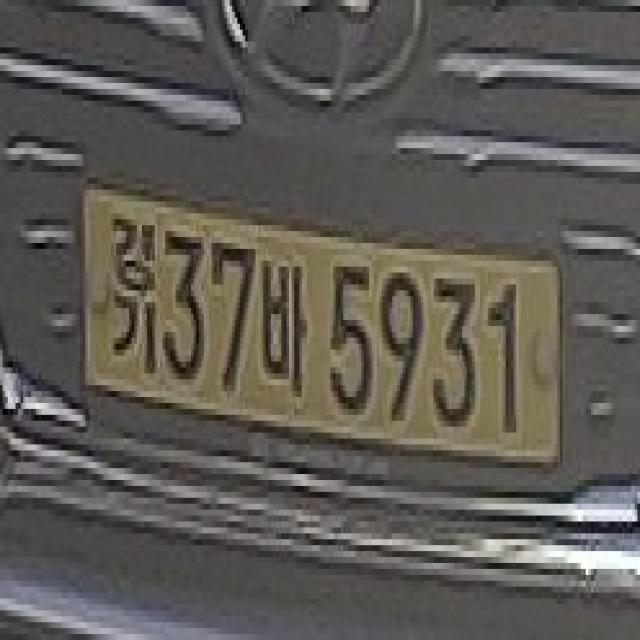plat: (79, 178, 564, 467)
